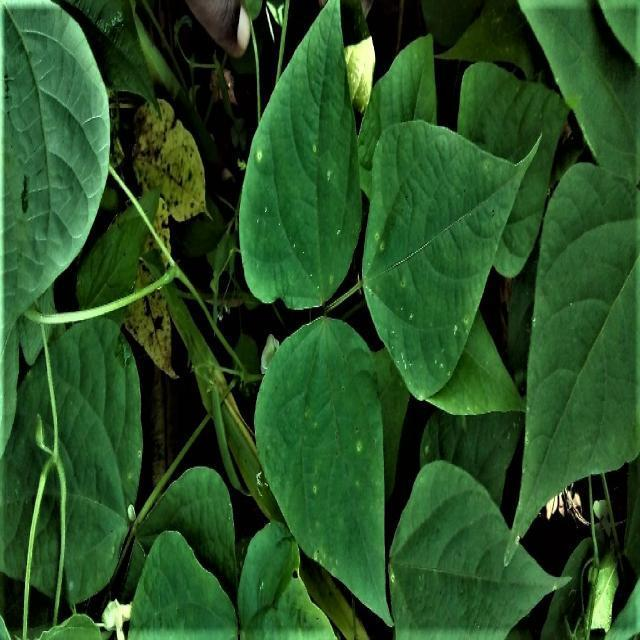hawar: (371, 228, 465, 388), (300, 125, 374, 297), (346, 428, 383, 499), (287, 462, 341, 509), (243, 142, 288, 184)
